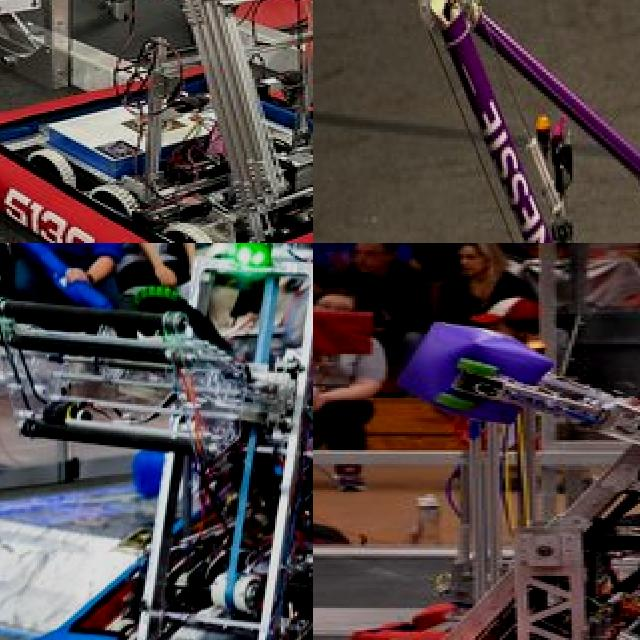FRC-Robots: (0, 243, 313, 640), (313, 314, 640, 640), (0, 0, 313, 243), (331, 405, 640, 640), (419, 0, 640, 243)
